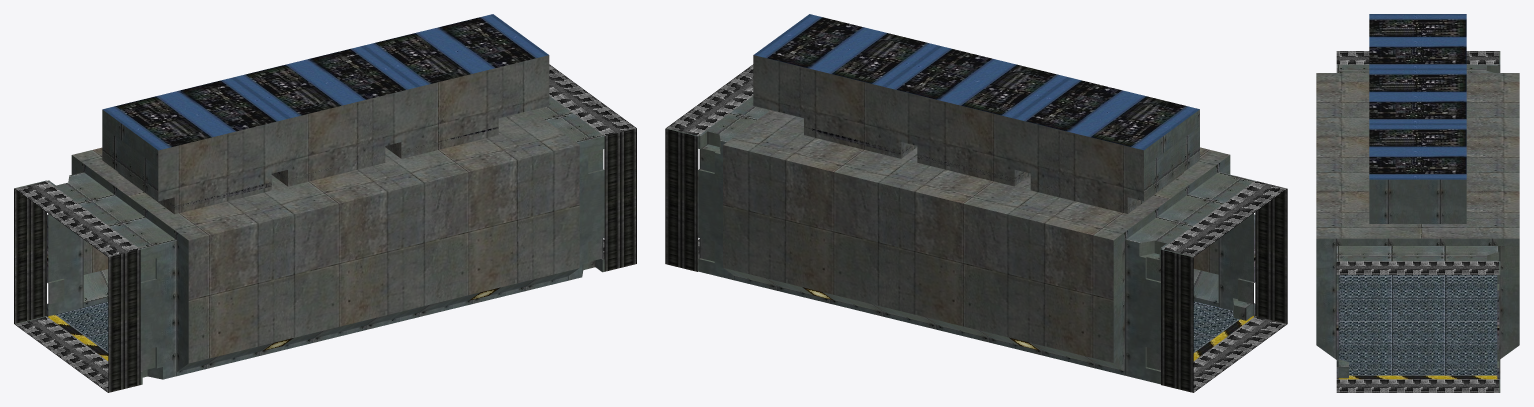
The model's file is hl1_c1a0_transition.glb.
3 views of the same model, side by side, from view 1: azimuth 30°, elevation 25°; view 2: azimuth 150°, elevation 25°; view 3: azimuth 270°, elevation 25° (orthographic). The views are drawn at different scales.
Parts seen in each view (by area): view 1: C1A0_Airlock; view 2: C1A0_Airlock; view 3: C1A0_Airlock.
Boxes of the visible parts, x1=… form: C1A0_Airlock: x1=14, y1=14, x2=636, y2=392; C1A0_Airlock: x1=665, y1=14, x2=1287, y2=392; C1A0_Airlock: x1=1316, y1=14, x2=1519, y2=392.
Bounding box in the file's own units: 13.05 × 5 × 5.
Materials: 14 (14 with a texture image).
